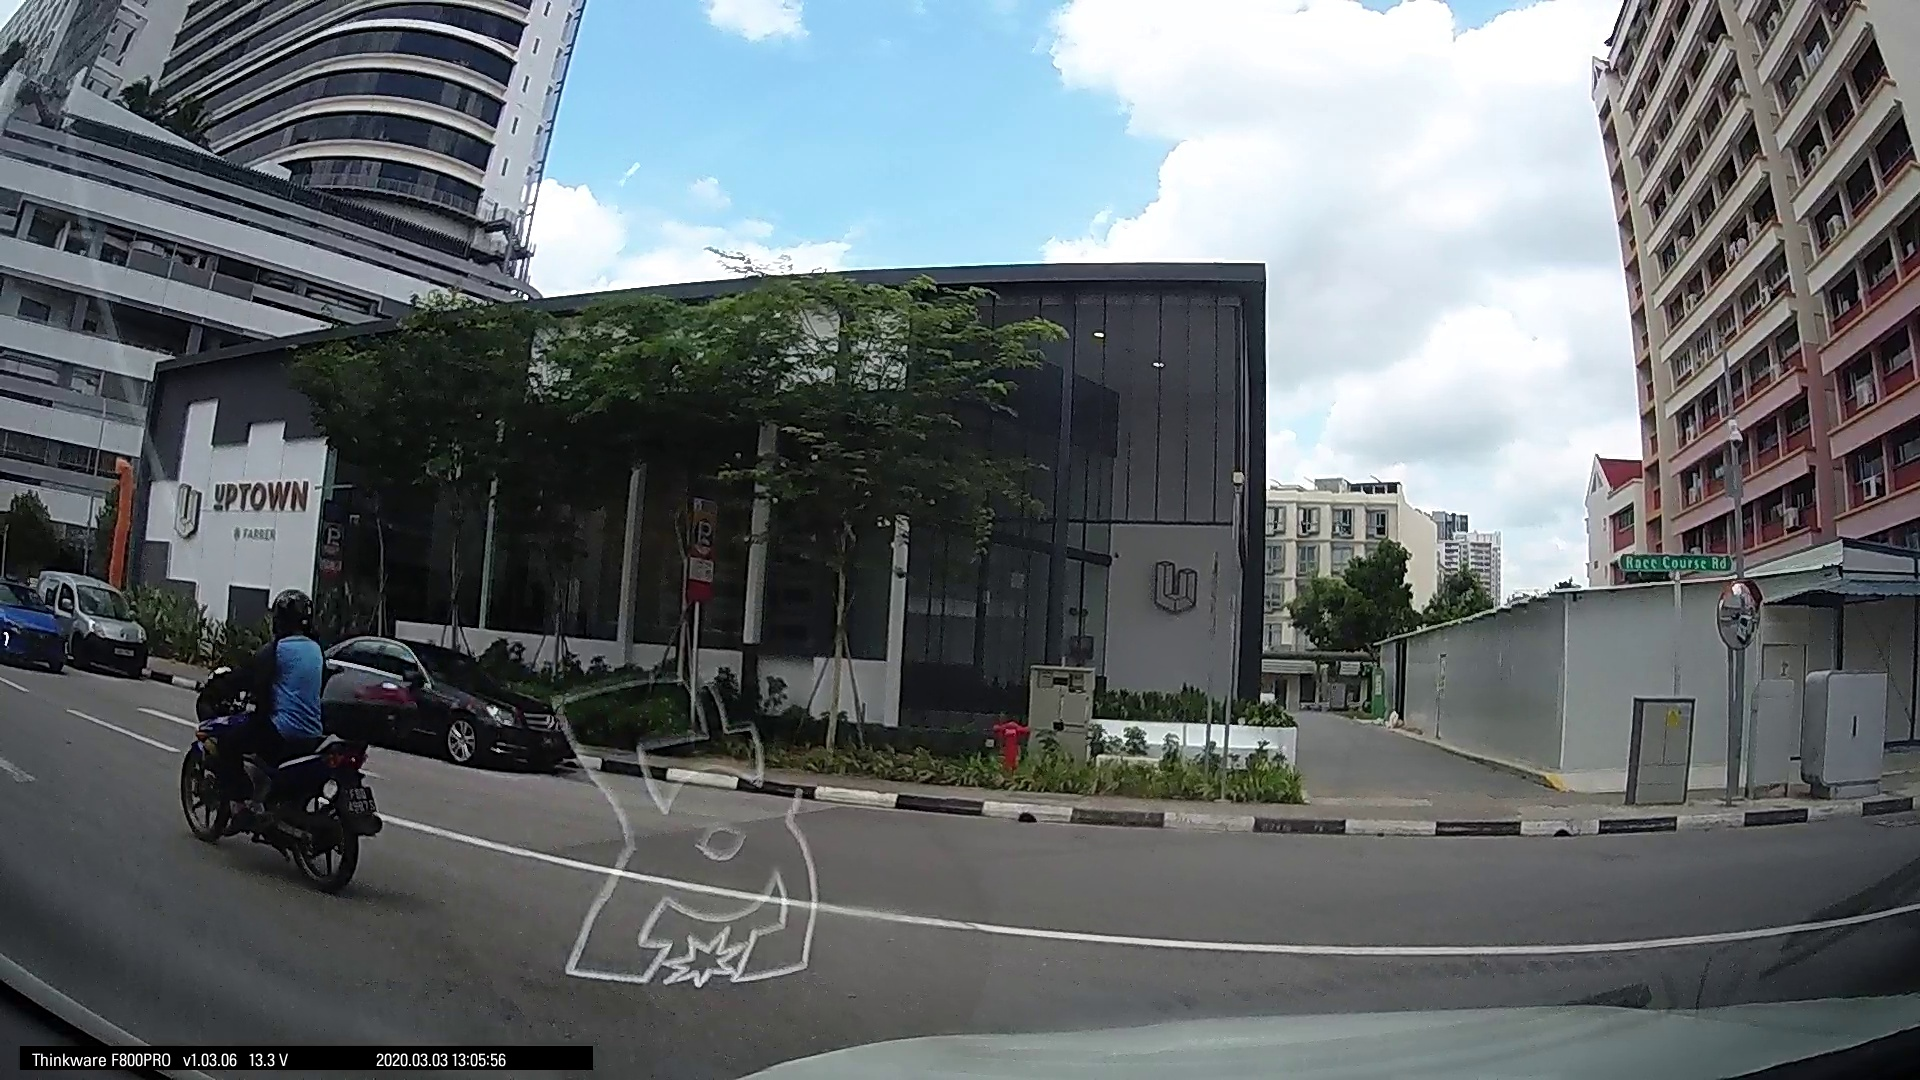Light Vehicle: (310, 629, 585, 771), (7, 568, 152, 675)
Motorcycle: (167, 633, 393, 891)
